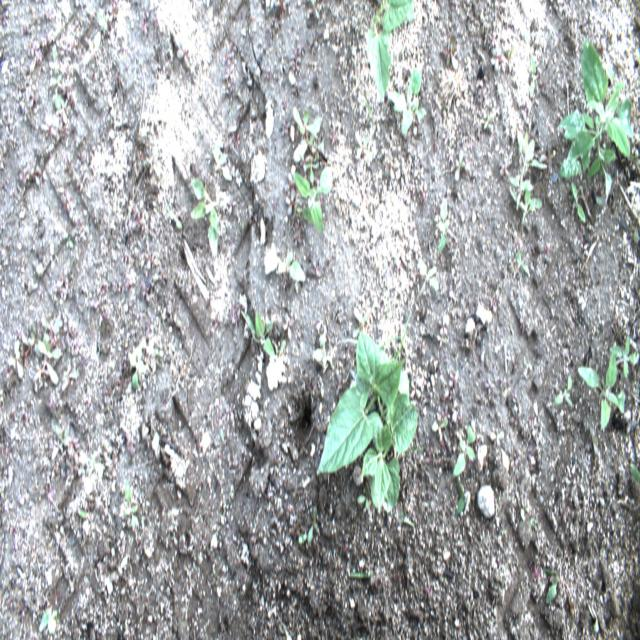crop: (315, 330, 418, 516), (364, 0, 414, 101)
weed: (556, 38, 635, 207), (577, 346, 625, 434), (388, 58, 429, 136), (292, 162, 335, 232), (190, 176, 222, 260), (242, 308, 276, 357), (451, 417, 476, 478), (517, 127, 548, 174), (509, 186, 542, 230), (608, 333, 640, 378), (394, 302, 412, 368), (292, 101, 322, 136), (311, 326, 335, 369), (127, 343, 148, 391), (508, 174, 536, 209), (273, 252, 306, 281), (213, 142, 236, 182), (435, 196, 450, 256), (123, 478, 139, 534), (34, 352, 60, 384), (440, 32, 460, 72), (418, 256, 439, 292), (51, 414, 72, 449), (555, 372, 574, 409), (34, 332, 61, 358), (7, 338, 24, 379), (542, 568, 560, 606), (292, 137, 311, 172), (452, 472, 467, 516), (571, 180, 586, 224), (38, 604, 58, 636), (49, 43, 63, 88), (530, 54, 544, 99), (353, 304, 369, 340), (61, 364, 80, 394), (354, 130, 373, 160), (306, 504, 320, 544), (431, 411, 448, 441), (41, 316, 64, 338), (310, 126, 324, 162), (40, 111, 59, 137), (398, 508, 417, 534), (284, 187, 300, 217), (378, 335, 408, 351), (54, 92, 68, 124), (516, 246, 530, 278), (76, 506, 90, 536), (454, 149, 466, 183), (589, 600, 601, 634), (308, 152, 320, 183), (477, 108, 493, 131), (489, 46, 503, 72), (355, 486, 368, 510), (22, 330, 37, 349), (385, 289, 389, 356), (35, 162, 49, 180), (489, 431, 504, 447), (629, 462, 639, 484), (338, 338, 362, 345), (348, 572, 375, 578), (298, 532, 307, 544)
